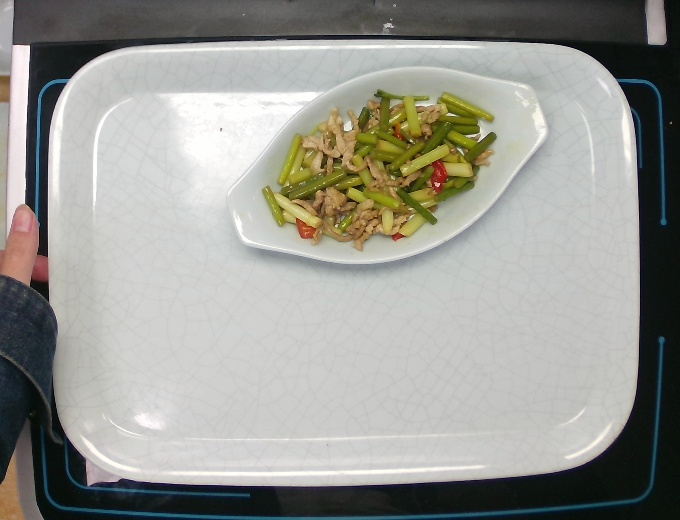JYsf-Yu_Pan: (225, 65, 549, 271)
